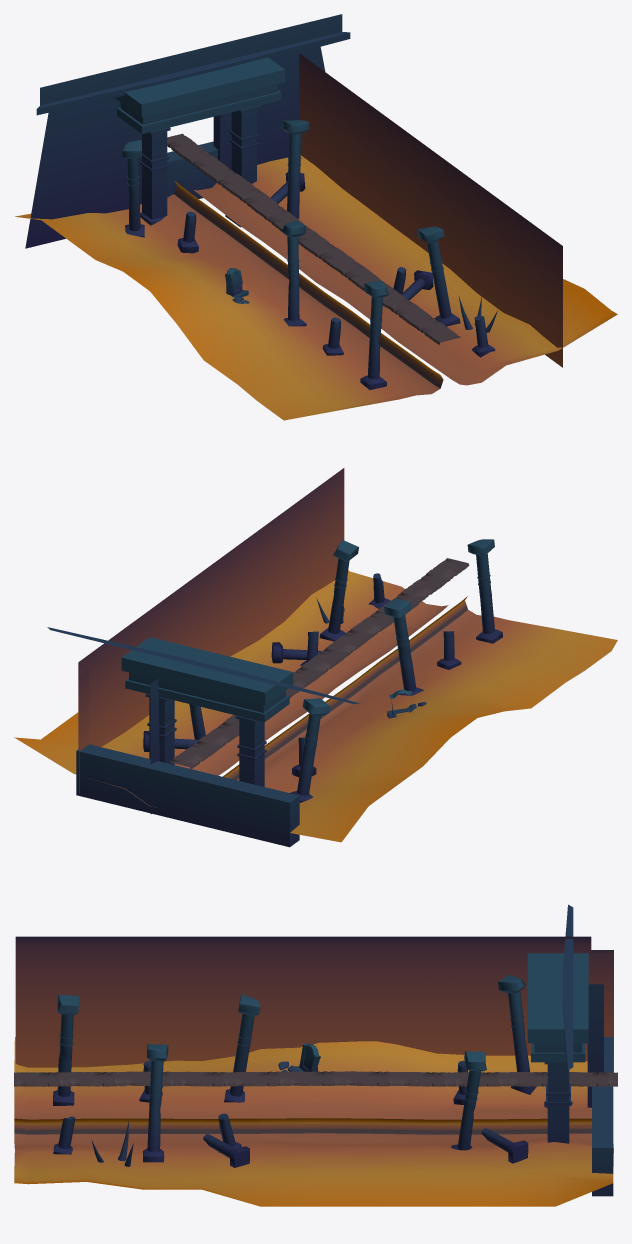
File: stage3start.gltf
3 views of the same model, one above another, from view 1: azimuth 30°, elevation 25°; view 2: azimuth 150°, elevation 25°; view 3: azimuth 270°, elevation 25° (orthographic). The views are drawn at different scales.
Parts seen in each view (by area): view 1: stage3start_GEO; view 2: stage3start_GEO; view 3: stage3start_GEO.
Part boxes in pixels (x1,y1,x2,y2): stage3start_GEO: (15, 14, 617, 420); stage3start_GEO: (14, 468, 617, 847); stage3start_GEO: (14, 904, 617, 1206).
Size of the model in its own units: 14294 by 7252 by 21000.
Materials: 1 (1 with a texture image).
